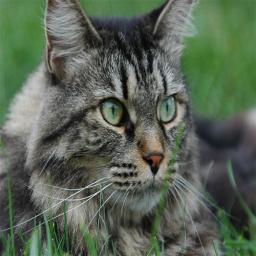catnose: (145, 152, 164, 174)
